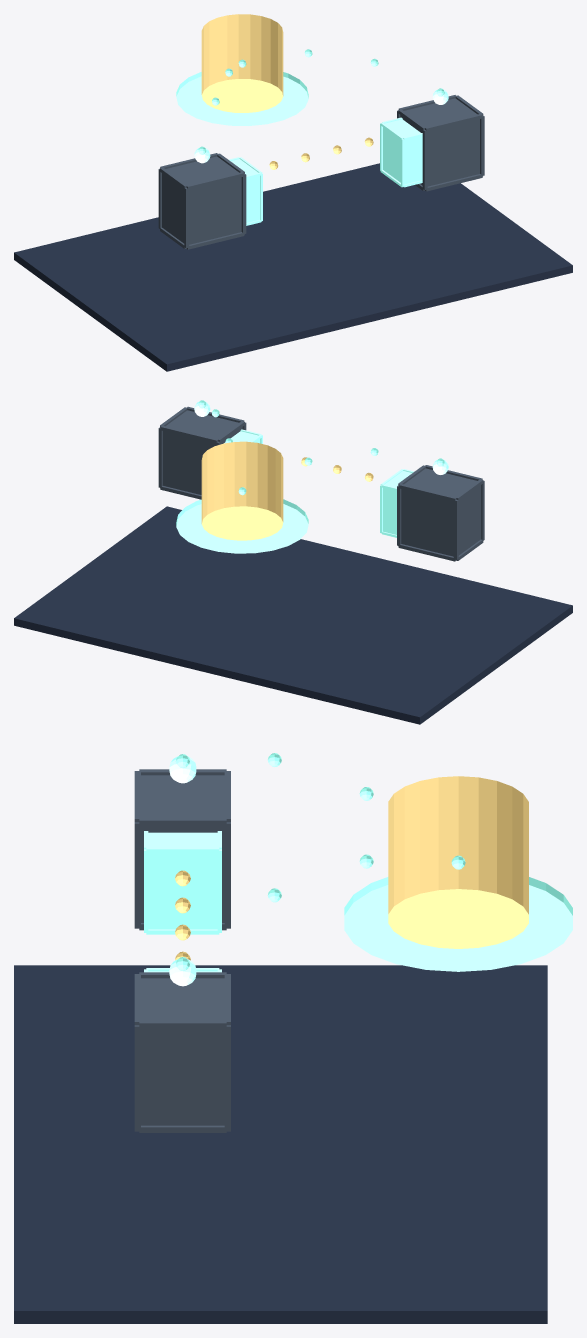
The model's file is service-mesh-sidecar.glb.
3 views of the same model, one above another, from view 1: azimuth 30°, elevation 25°; view 2: azimuth 150°, elevation 25°; view 3: azimuth 270°, elevation 25° (orthographic). The views are drawn at different scales.
Parts seen in each view (by area): view 1: mesh-floor, mesh-control-plane, app-0, app-1, cp-halo, sidecar-1, sidecar-0; view 2: mesh-floor, mesh-control-plane, app-0, app-1, cp-halo, sidecar-0; view 3: mesh-floor, mesh-control-plane, app-1, cp-halo, app-0, sidecar-0.
Boxes of the visible parts, x1=… form: mesh-floor: x1=14, y1=163, x2=572, y2=371; mesh-control-plane: x1=201, y1=14, x2=283, y2=112; app-0: x1=158, y1=153, x2=246, y2=249; app-1: x1=397, y1=95, x2=484, y2=191; cp-halo: x1=176, y1=72, x2=308, y2=125; sidecar-1: x1=380, y1=117, x2=422, y2=187; sidecar-0: x1=229, y1=157, x2=262, y2=225; mesh-floor: x1=14, y1=506, x2=572, y2=724; mesh-control-plane: x1=201, y1=441, x2=283, y2=540; app-0: x1=397, y1=465, x2=484, y2=561; app-1: x1=158, y1=406, x2=246, y2=499; cp-halo: x1=176, y1=499, x2=308, y2=553; sidecar-0: x1=380, y1=469, x2=414, y2=537; mesh-floor: x1=14, y1=965, x2=547, y2=1323; mesh-control-plane: x1=388, y1=776, x2=528, y2=948; app-1: x1=134, y1=972, x2=230, y2=1132; cp-halo: x1=344, y1=877, x2=572, y2=971; app-0: x1=134, y1=769, x2=230, y2=930; sidecar-0: x1=144, y1=831, x2=221, y2=934.
Size of what is drawn, in the model's own units: 4.6 by 2.14 by 3.14.
